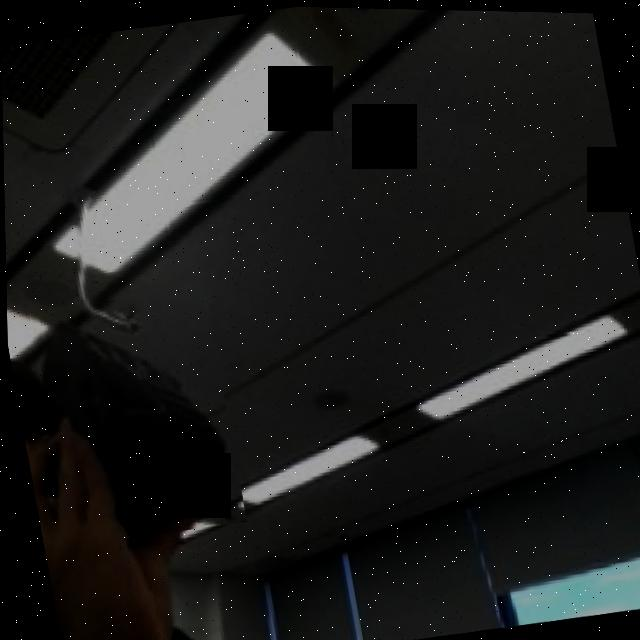shoe: (26, 278, 246, 549)
